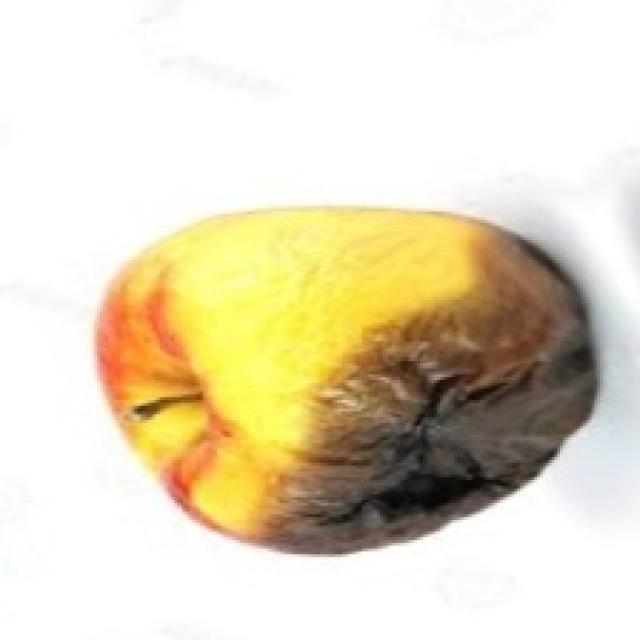rotten_apple: (106, 208, 590, 537)
